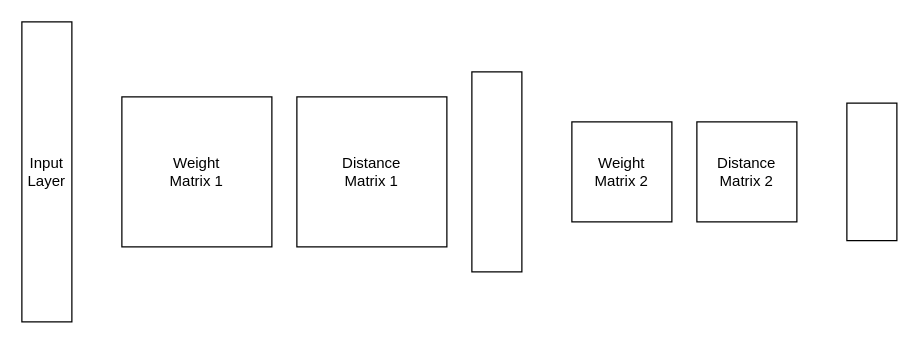
Image size: 919x344. Some labels were removed from this diagram. Here are the shapes that lost their labels. From the top down, the centre of each, then its label:
At point (496, 171): "Hidden Layer".
At point (871, 171): "Output Layer".
